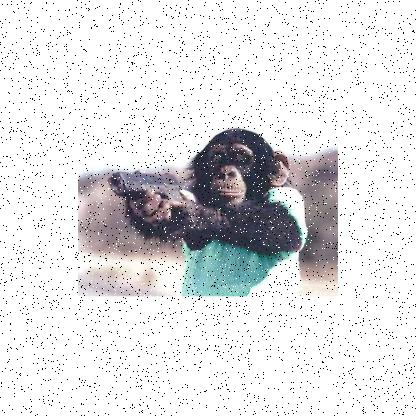gun: (104, 164, 208, 252)
